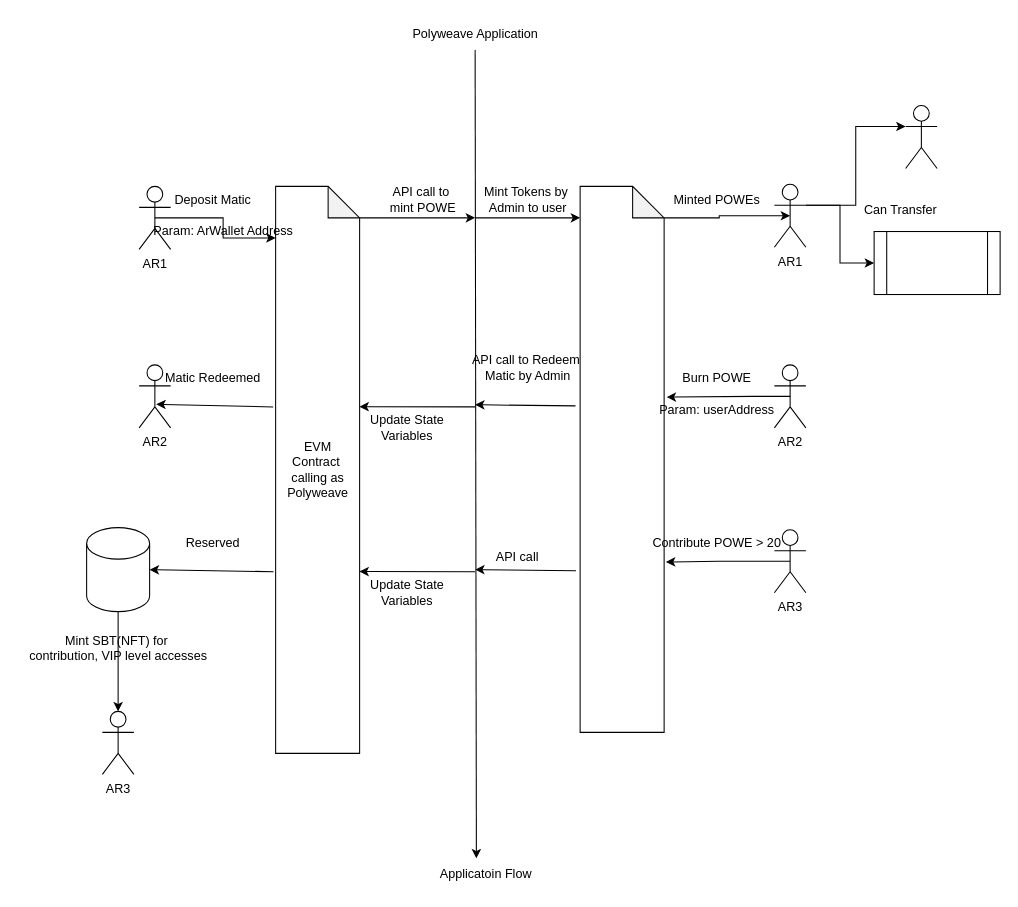
Image size: 1018x907. Some labels were removed from this diagram. Here are the shapes that lost their labels. From the top down, the centre of each, then its label:
At point 921,136: "Actor".
At point 936,262: "PST exchanges".
At point 621,458: "AR Contract, PSTs called as POWE".
